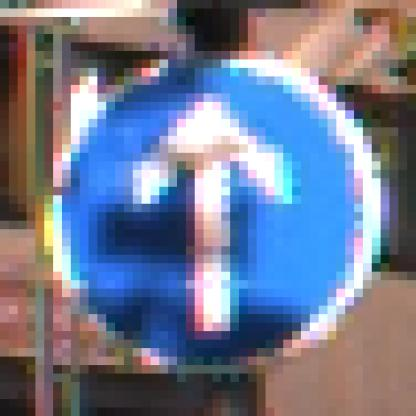AheadOnly: (54, 52, 373, 366)
